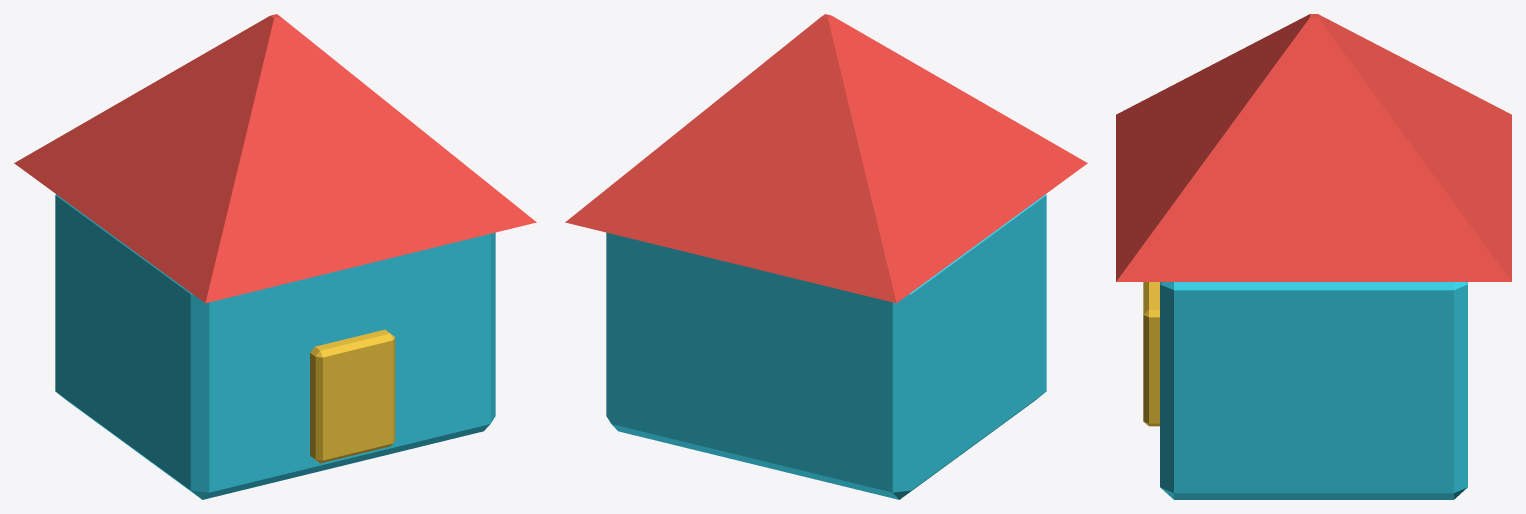
File: toy_house.glb
The picture shows the model from 3 angles, left to right: view 1: azimuth 30°, elevation 25°; view 2: azimuth 150°, elevation 25°; view 3: azimuth 270°, elevation 25°; orthographic projection. The views are drawn at different scales.
Visible parts, largest first — view 1: toy_house; view 2: toy_house; view 3: toy_house.
Part boxes in pixels (box(x1,y1,x2,y2)): toy_house: box(14, 14, 536, 499); toy_house: box(565, 14, 1087, 499); toy_house: box(1116, 14, 1511, 499).
Bounding box in the file's own units: 1.41 × 1.63 × 1.41.
